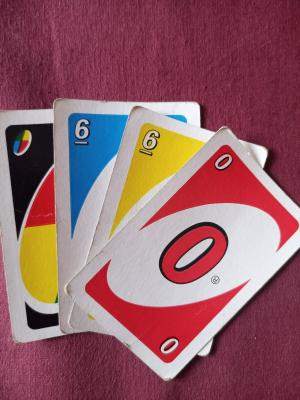blue: (53, 100, 135, 286)
num_0: (154, 331, 181, 362), (211, 147, 236, 176)
num_6: (135, 123, 165, 160), (69, 112, 96, 149)
wild: (2, 107, 59, 341), (10, 122, 34, 162)
yellow: (32, 79, 214, 263)
